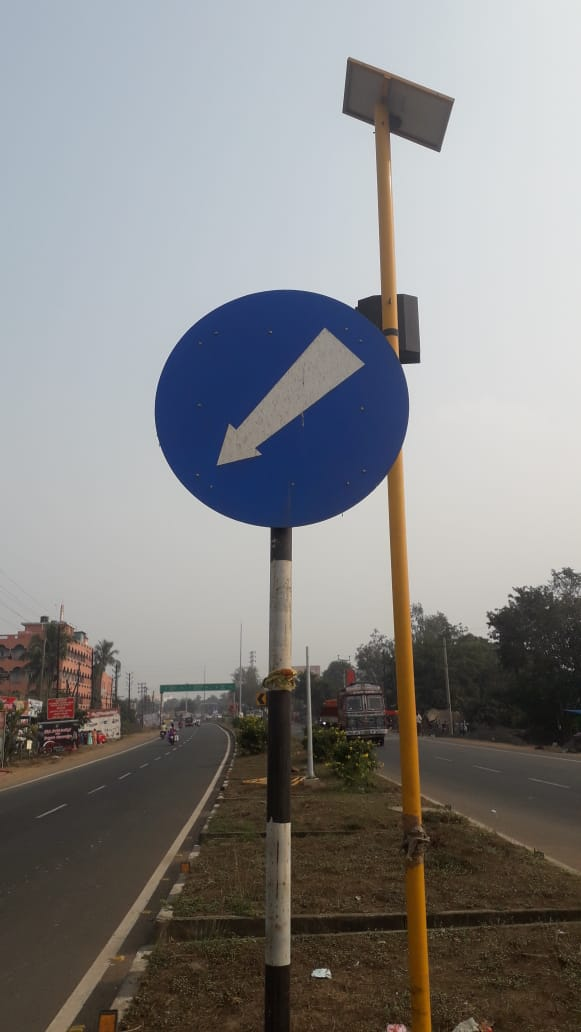pedestrian crossing: (84, 259, 479, 575)
